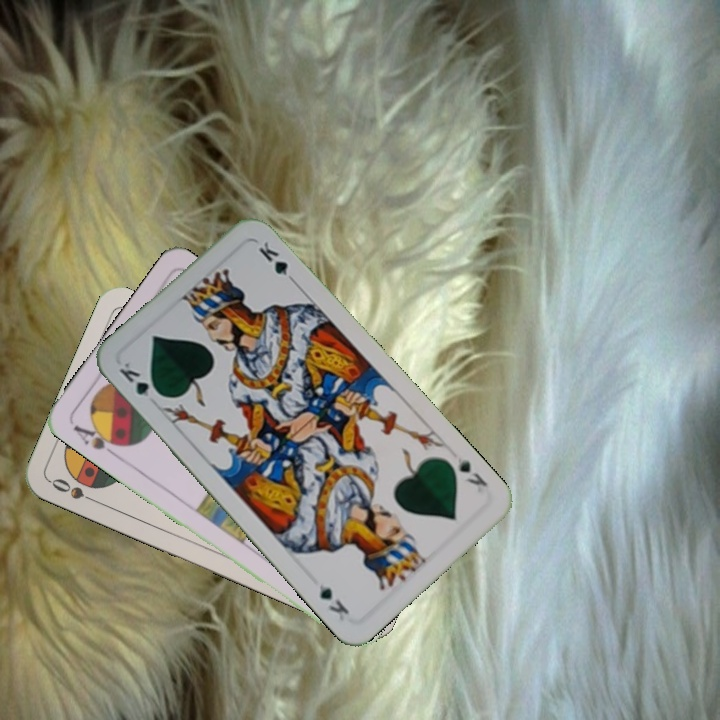GK: (115, 358, 165, 400), (453, 454, 491, 490)
SA: (69, 418, 126, 460)
SO: (46, 474, 103, 507)
